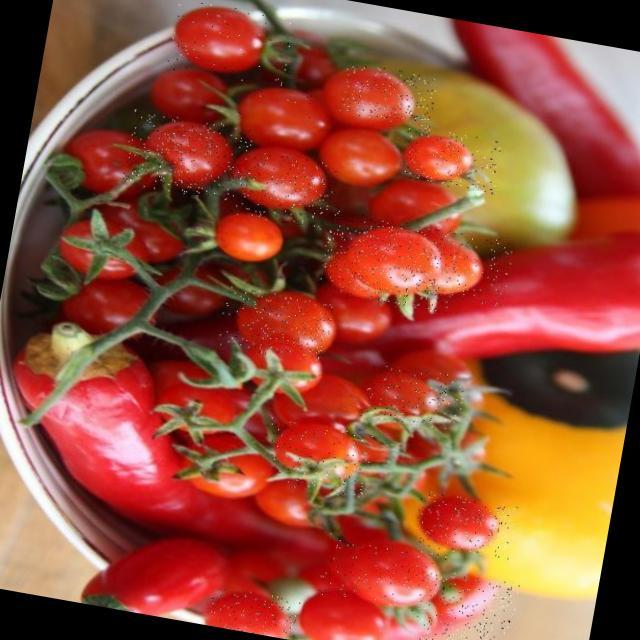Tomate: (316, 209, 460, 314), (120, 108, 253, 204), (160, 0, 293, 90), (316, 532, 447, 615), (394, 223, 513, 311), (256, 416, 373, 500), (216, 284, 334, 364), (228, 147, 336, 231), (408, 567, 517, 640), (230, 82, 331, 159), (412, 489, 518, 561), (360, 360, 466, 432), (397, 125, 501, 195), (337, 61, 437, 128), (204, 584, 302, 640)
